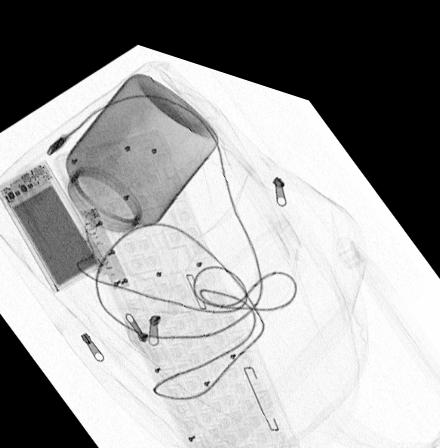Powerbank: (0, 155, 106, 288)
